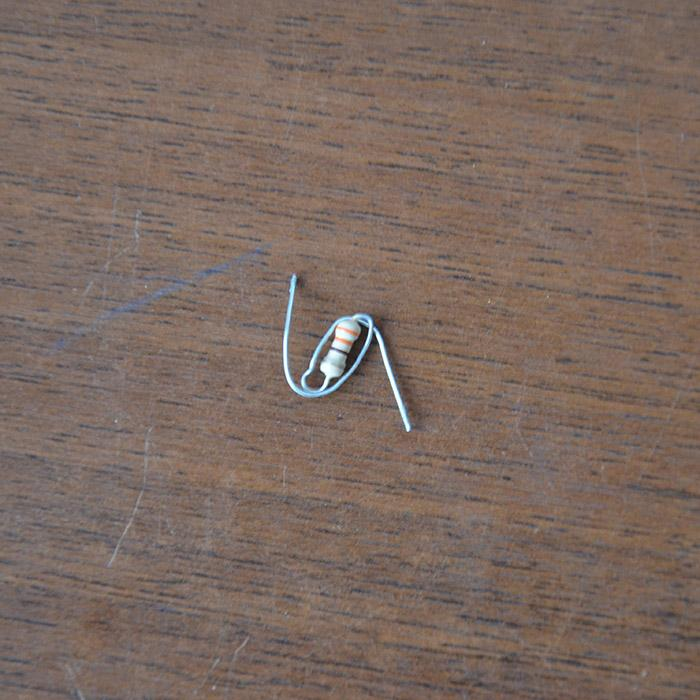resistor: (316, 316, 361, 383)
